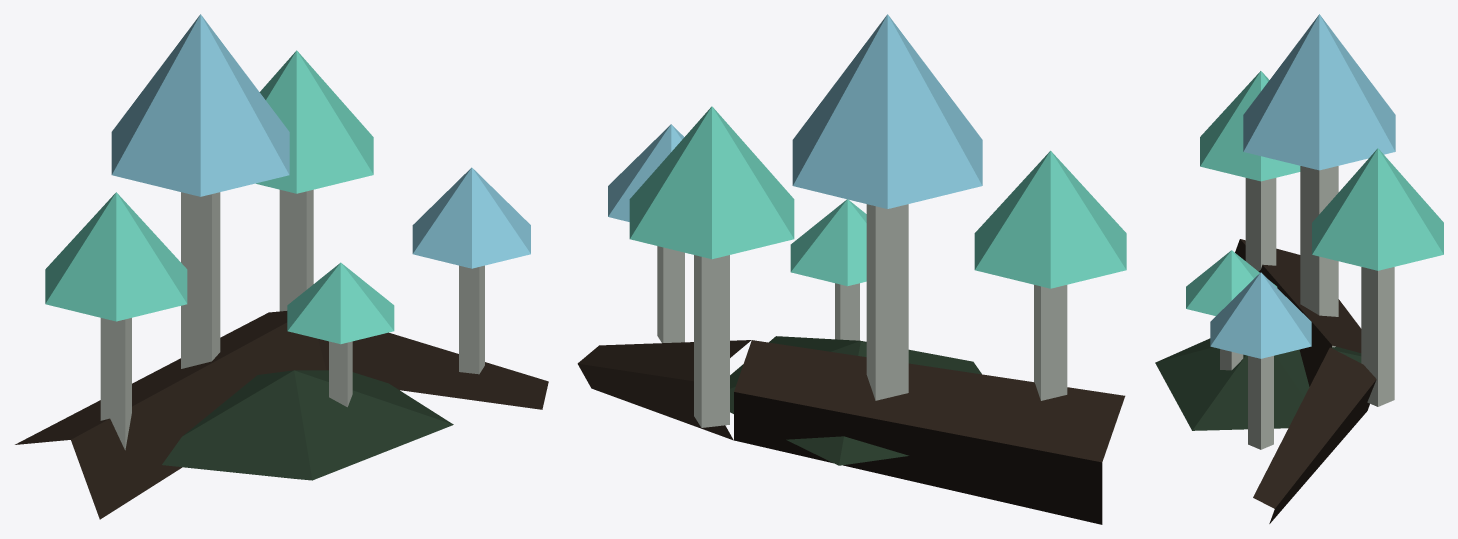
File: glow_mushrooms.glb
3 renders of one model, left to right at view 1: azimuth 30°, elevation 25°; view 2: azimuth 150°, elevation 25°; view 3: azimuth 270°, elevation 25°, orthographic. The views are drawn at different scales.
Visible parts, largest first — view 1: glow_mushrooms, Caps_glow; view 2: glow_mushrooms, Caps_glow; view 3: Caps_glow, glow_mushrooms.
Boxes of the visible parts, box(x1,y1,x2,y2) form: glow_mushrooms: box(15, 189, 548, 519); Caps_glow: box(45, 14, 530, 344); glow_mushrooms: box(577, 204, 1125, 524); Caps_glow: box(608, 14, 1126, 288); Caps_glow: box(1186, 14, 1443, 358); glow_mushrooms: box(1155, 166, 1394, 523).
Size of the model in its own units: 0.8616 by 0.7325 by 0.4935.
